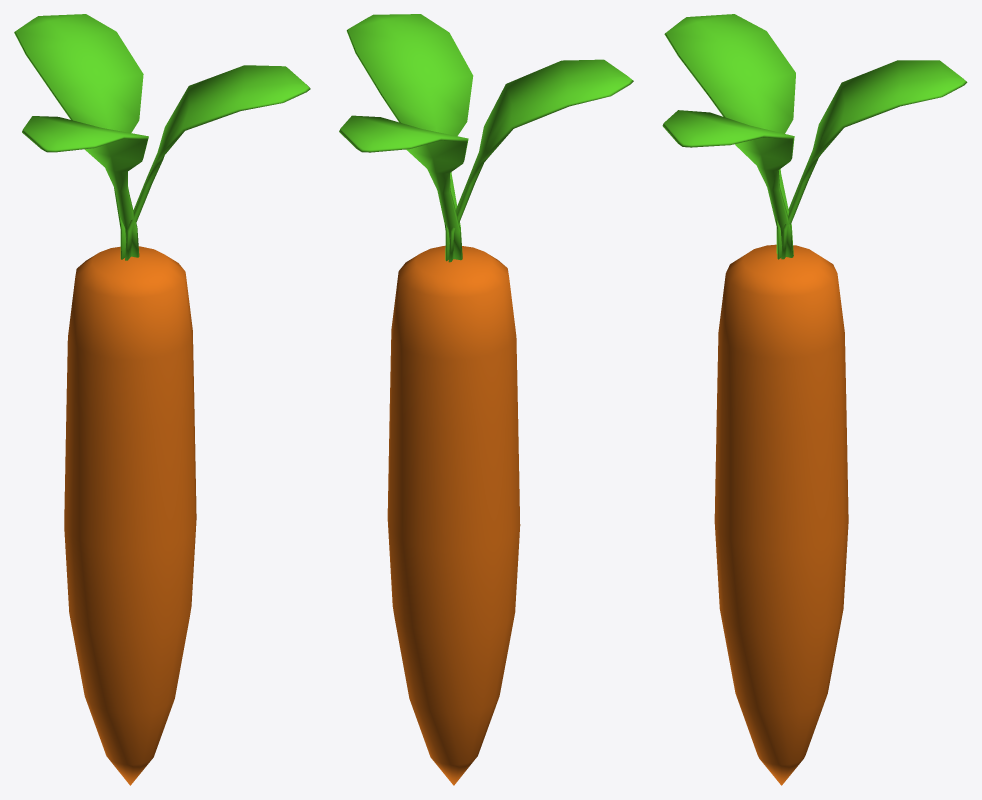
Rendered from caroot.fbx.
The picture shows the model from 3 angles, left to right: view 1: azimuth 30°, elevation 25°; view 2: azimuth 150°, elevation 25°; view 3: azimuth 270°, elevation 25°; orthographic projection.
Visible parts, largest first — view 1: meroot, leafs; view 2: meroot, leafs; view 3: meroot, leafs.
Boxes of the visible parts, x1,y1,x2,y2 form: meroot: [64, 246, 196, 785]; leafs: [14, 14, 310, 260]; meroot: [387, 245, 520, 785]; leafs: [339, 14, 633, 262]; meroot: [714, 244, 848, 785]; leafs: [662, 14, 967, 259].
Size of the model in its own units: 47.62 by 121 by 47.25.
